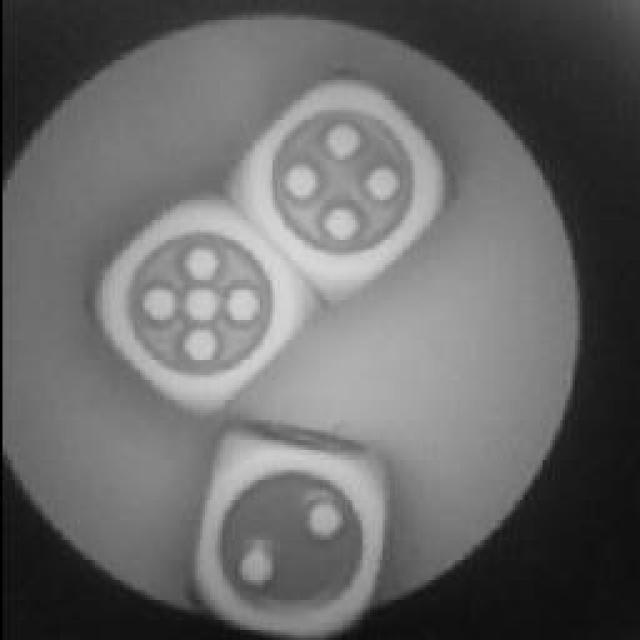dice_2: (197, 442, 385, 632)
dice_4: (245, 88, 447, 272)
dice_5: (95, 215, 295, 405)
